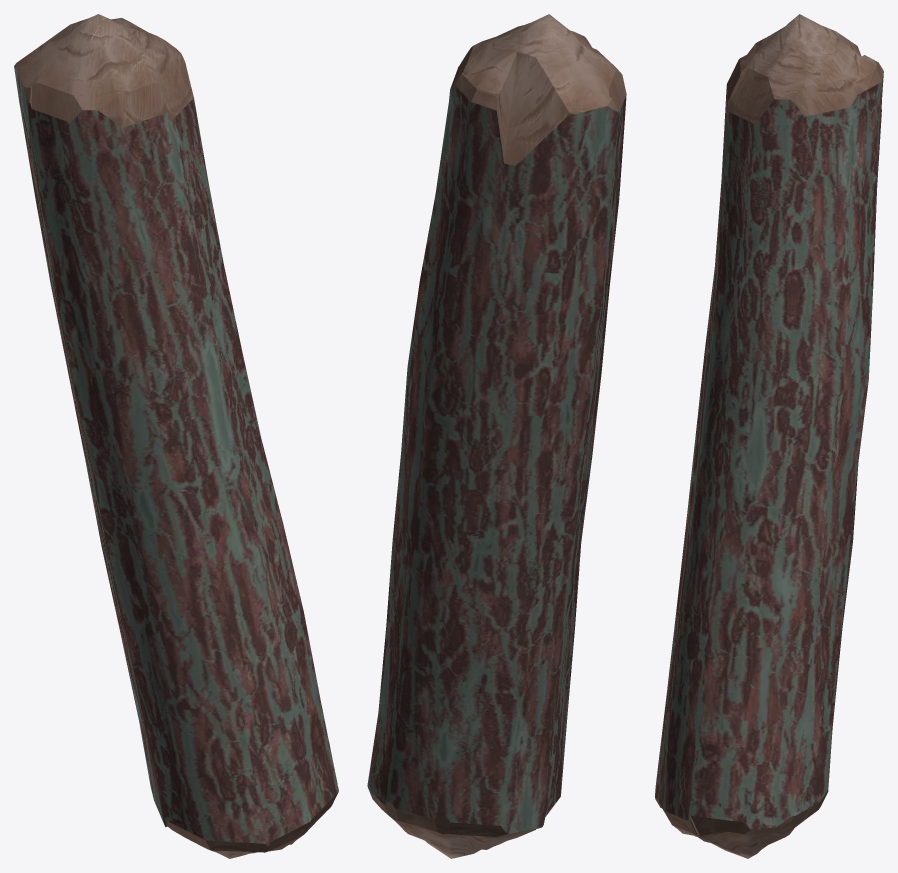
The picture shows the model from 3 angles, left to right: view 1: azimuth 30°, elevation 25°; view 2: azimuth 150°, elevation 25°; view 3: azimuth 270°, elevation 25°; orthographic projection. The views are drawn at different scales.
Parts seen in each view (by area): view 1: SM_MapleTree_01_quarter_02_LOD0; view 2: SM_MapleTree_01_quarter_02_LOD0; view 3: SM_MapleTree_01_quarter_02_LOD0.
Part boxes in pixels (box(x1,y1,x2,y2)): SM_MapleTree_01_quarter_02_LOD0: box(14, 14, 338, 858); SM_MapleTree_01_quarter_02_LOD0: box(367, 14, 626, 858); SM_MapleTree_01_quarter_02_LOD0: box(655, 14, 883, 858).
Bounding box in the file's own units: 0.8245 × 2.56 × 0.6729.
Materials: 1 (1 with a texture image).
